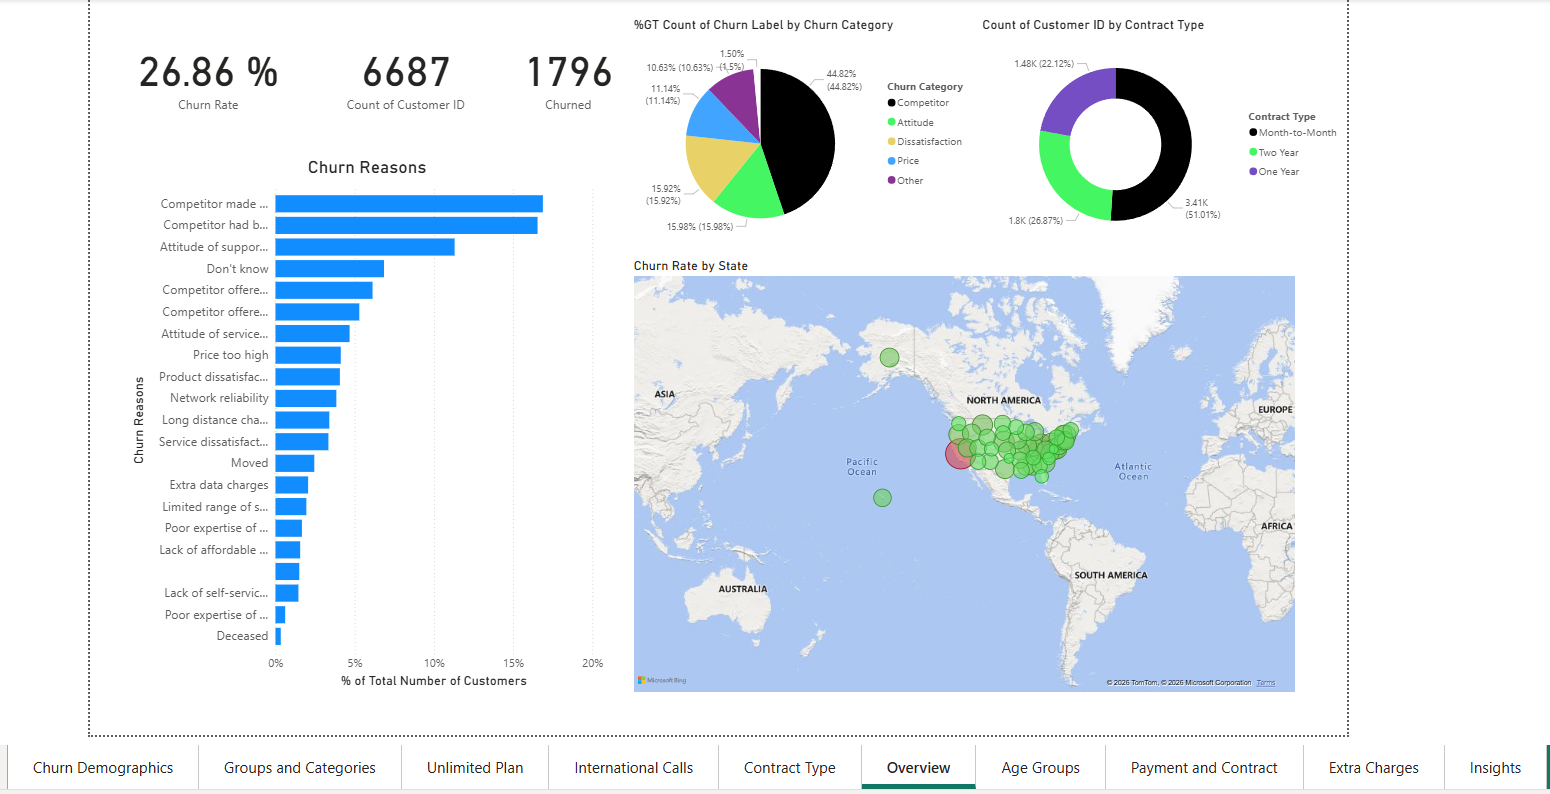

This screenshot's page, from the dashboard's own definition file:
{"tool":"powerbi","page":{"name":"Overview","canvas":[1640,960],"ordinal":5},"visuals":[{"type":"card","fields":{"Values":["Databel - Data.Churn Rate"]},"box":[48.9,37.1,211.2,123.2],"z":0},{"type":"card","fields":{"Values":["Count(Databel - Data.Customer ID)"]},"box":[307,37.1,211.2,123.2],"z":1000},{"type":"card","fields":{"Values":["Sum(Databel - Data.Churned)"]},"box":[518.1,37.1,211.2,123.2],"z":2000},{"type":"clusteredBarChart","title":"Churn Reasons","fields":{"Category":["Databel - Data.Churn Reason"],"Y":["CountNonNull(Databel - Data.Number of Customers in Group)"]},"box":[48.9,205.3,625.7,698],"z":3000},{"type":"donutChart","fields":{"Y":["Count(Databel - Data.Customer ID)"],"Category":["Databel - Data.Contract Type"]},"box":[1159.4,23.5,481,314.8],"z":4000},{"type":"pieChart","fields":{"Category":["Databel - Data.Churn Category"],"Y":["CountNonNull(Databel - Data.Churn Label)"]},"box":[703.9,23.5,455.6,312.8],"z":5000},{"type":"map","fields":{"Category":["Databel - Data.State"],"Size":["Databel - Data.Churn Rate"]},"box":[703.9,338.2,872,570.9],"z":6000}]}

Visuals, with their boxes on the page's 1640x960 design canvas (x1, y1, x2, y2). These are canvas units, not pixel positions in the 1550x794 screenshot, which may show the page scaled, cropped or inside an application window:
card - Databel - Data.Churn Rate: [49, 37, 260, 160]
card - Count(Databel - Data.Customer ID): [307, 37, 518, 160]
card - Sum(Databel - Data.Churned): [518, 37, 729, 160]
"Churn Reasons" clusteredBarChart: [49, 205, 675, 903]
donutChart - Count(Databel - Data.Customer ID) x Databel - Data.Contract Type: [1159, 24, 1640, 338]
pieChart - Databel - Data.Churn Category x CountNonNull(Databel - Data.Churn Label): [704, 24, 1160, 336]
map - Databel - Data.State x Databel - Data.Churn Rate: [704, 338, 1576, 909]
